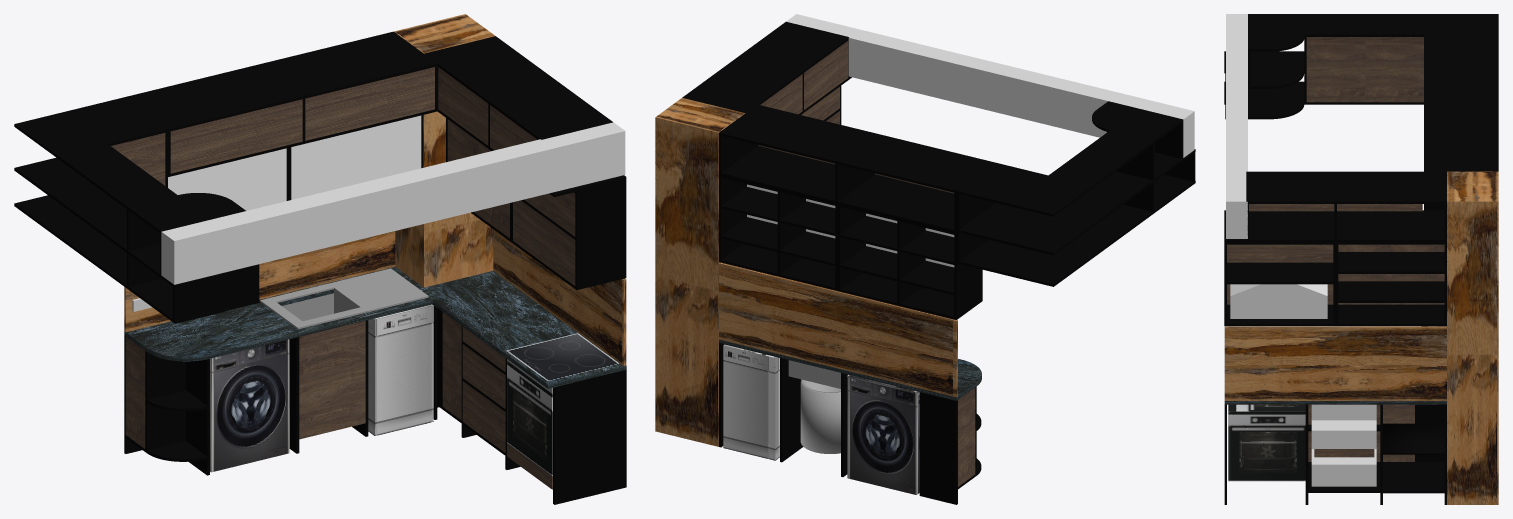
The model's file is kitchen.glb.
The picture shows the model from 3 angles, left to right: view 1: azimuth 30°, elevation 25°; view 2: azimuth 150°, elevation 25°; view 3: azimuth 270°, elevation 25°; orthographic projection. The views are drawn at different scales.
Visible parts, largest first — view 1: beam_kitchen, module-middle-top_top, Washing Machine.003, ventilation-box, oven-module_wall_right, worktop_left, dishwasher, worktop_right, sink-module_door, worktop-back_right, worktop-back_left, module-middle-top_door_left (+39 smaller); view 2: ventilation-box, worktop-back_left, beam_kitchen, module-middle-top_top, module-middle-top_bot, Washing Machine.003, dishwasher, moduleL_top_left, moduleL_top_right, moduleL_shelf_right, electrics-module_wall_left, moduleR-top_top_left (+30 smaller); view 3: ventilation-box, worktop-back_right, module-middle-top_top, oven, beam_kitchen, moduleL_door_left, moduleL_top_left, moduleL_door_mid, moduleR-top_top_left, moduleR-top_bot_left, absorber_body, moduleL_top_right (+33 smaller).
Part boxes in pixels (bbox=[...]): beam_kitchen: bbox=[161, 122, 625, 284]; module-middle-top_top: bbox=[124, 31, 437, 131]; Washing Machine.003: bbox=[210, 339, 289, 472]; ventilation-box: bbox=[394, 14, 495, 287]; oven-module_wall_right: bbox=[553, 370, 626, 504]; worktop_left: bbox=[124, 267, 438, 361]; dishwasher: bbox=[368, 304, 433, 435]; worktop_right: bbox=[424, 271, 626, 388]; sink-module_door: bbox=[299, 321, 365, 439]; worktop-back_right: bbox=[493, 229, 626, 366]; worktop-back_left: bbox=[124, 231, 395, 332]; module-middle-top_door_left: bbox=[170, 99, 302, 173]; ventilation-box: bbox=[655, 98, 744, 446]; worktop-back_left: bbox=[719, 262, 957, 397]; beam_kitchen: bbox=[786, 14, 1194, 157]; module-middle-top_top: bbox=[719, 104, 994, 192]; module-middle-top_bot: bbox=[719, 146, 956, 232]; Washing Machine.003: bbox=[847, 374, 919, 494]; dishwasher: bbox=[723, 344, 779, 460]; moduleL_top_left: bbox=[1048, 109, 1182, 188]; moduleL_top_right: bbox=[959, 163, 1092, 216]; moduleL_shelf_right: bbox=[959, 203, 1090, 255]; electrics-module_wall_left: bbox=[922, 392, 957, 504]; moduleR-top_top_left: bbox=[683, 56, 802, 112]; ventilation-box: bbox=[1447, 171, 1498, 504]; worktop-back_right: bbox=[1224, 326, 1446, 400]; module-middle-top_top: bbox=[1424, 59, 1498, 171]; oven: bbox=[1228, 404, 1305, 481]; beam_kitchen: bbox=[1226, 14, 1247, 238]; moduleL_door_left: bbox=[1306, 37, 1365, 102]; moduleL_top_left: bbox=[1249, 14, 1423, 36]; moduleL_door_mid: bbox=[1365, 37, 1423, 102]; moduleR-top_top_left: bbox=[1337, 171, 1444, 203]; moduleR-top_bot_left: bbox=[1337, 210, 1444, 242]; absorber_body: bbox=[1230, 284, 1327, 318]; moduleL_top_right: bbox=[1424, 14, 1498, 58].
Size of the model in its own units: 3.45 by 2.6 by 2.13.
Materials: 11 (8 with a texture image).
